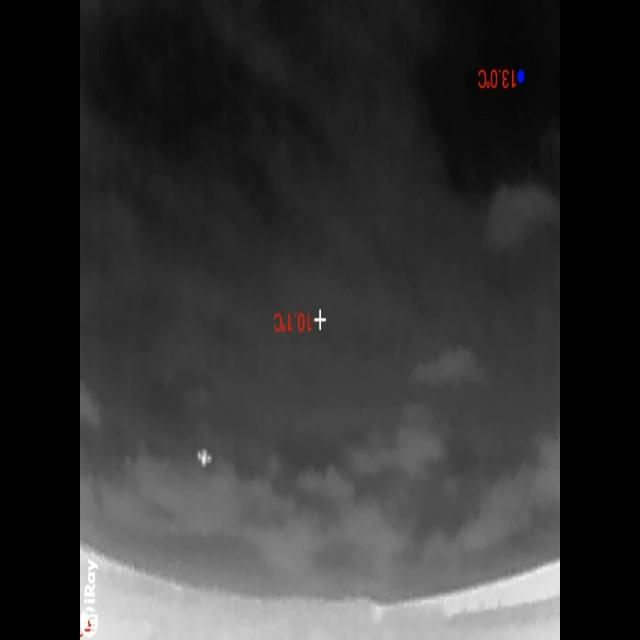drone: (195, 443, 214, 474)
